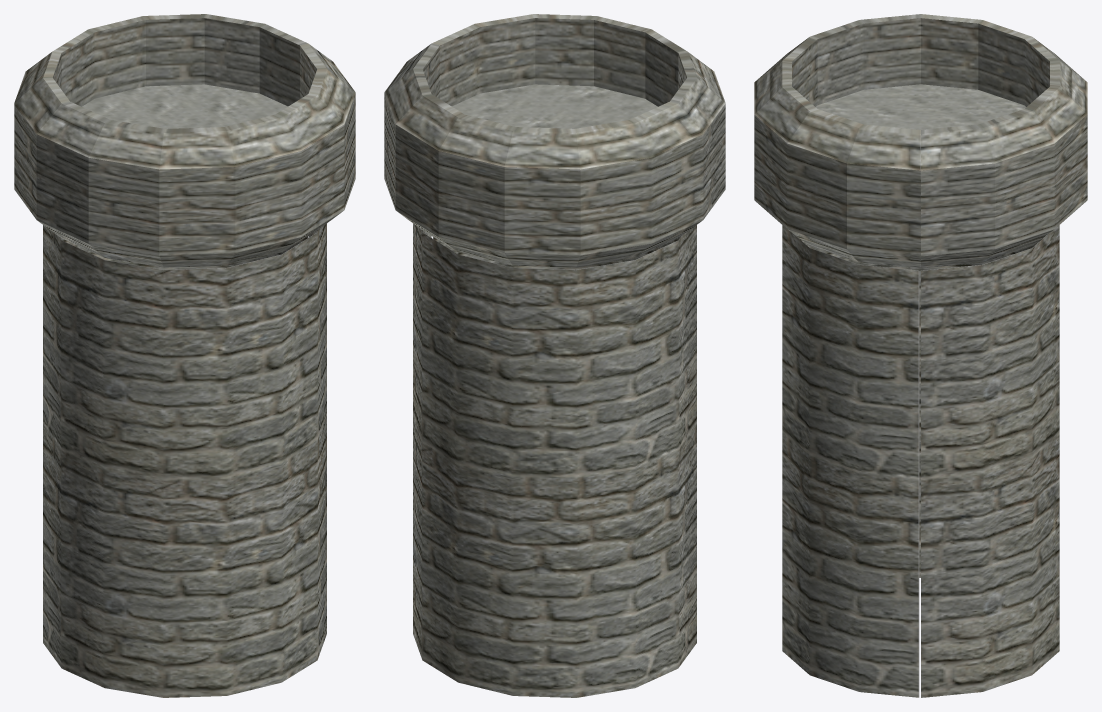
Rendered from simple_tower.FBX.
The picture shows the model from 3 angles, left to right: view 1: azimuth 30°, elevation 25°; view 2: azimuth 150°, elevation 25°; view 3: azimuth 270°, elevation 25°; orthographic projection.
Parts seen in each view (by area): view 1: Cylinder001; view 2: Cylinder001; view 3: Cylinder001.
Boxes of the visible parts, x1=… form: Cylinder001: x1=14, y1=14, x2=355, y2=697; Cylinder001: x1=384, y1=14, x2=725, y2=697; Cylinder001: x1=754, y1=14, x2=1087, y2=697.
Size of the model in its own units: 137 by 249 by 133.
